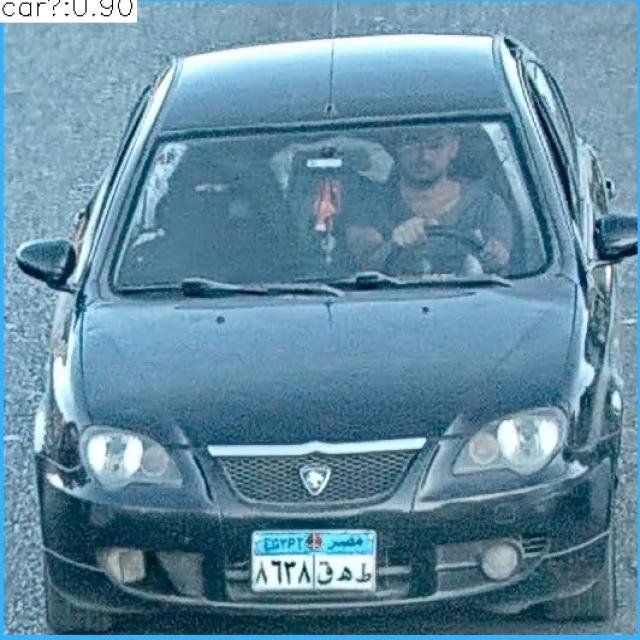windshield: (100, 121, 542, 298)
